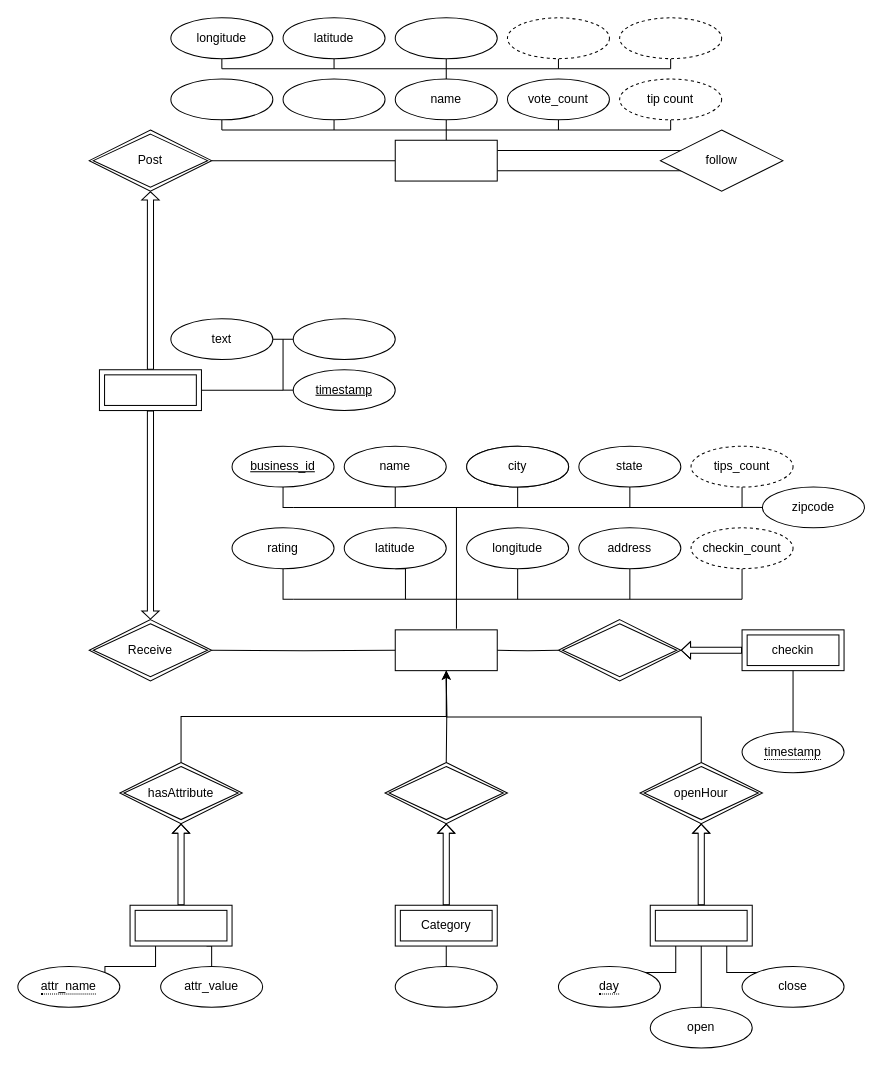
The diagram is 882 pixels wide and 1066 high, and some of its shapes have lost their labels. Each missing label, with the centre of its shape:
Attribute: (180,925)
average_stars: (445,38)
Business: (445,650)
category_name: (445,986)
date_joined: (333,99)
hasCategory: (445,792)
Hour: (700,925)
likes: (343,339)
num_fans: (670,38)
tip likes: (557,38)
Tips: (149,390)
User: (445,160)
user_id: (221,99)
userCheckin: (619,650)
